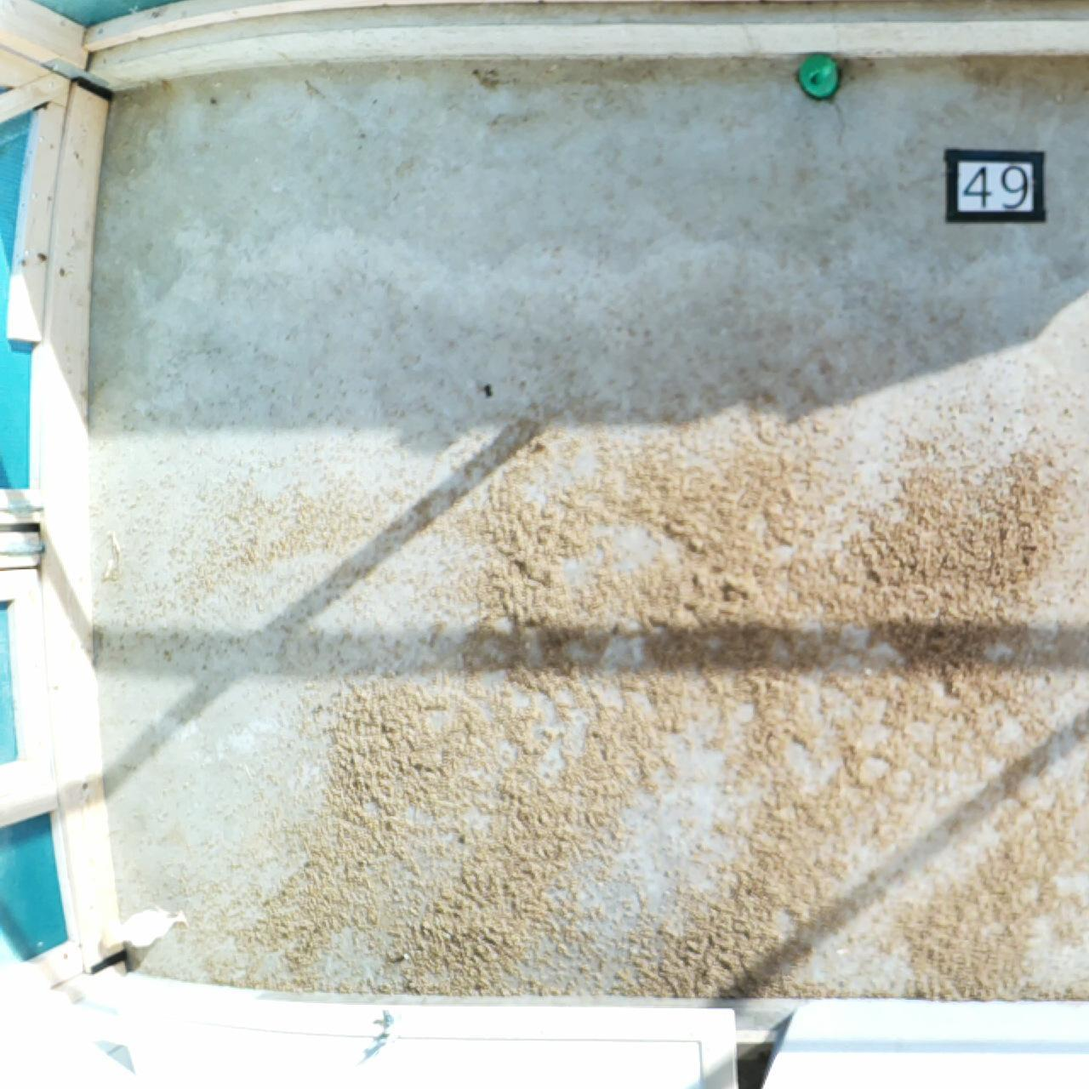chicken: (92, 898, 194, 963)
